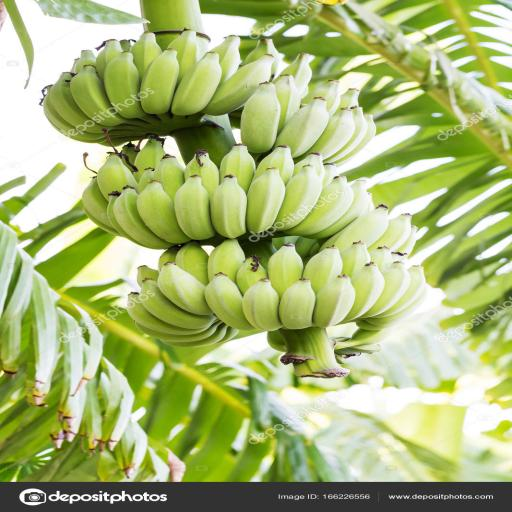banana-unripe: (24, 6, 422, 410)
